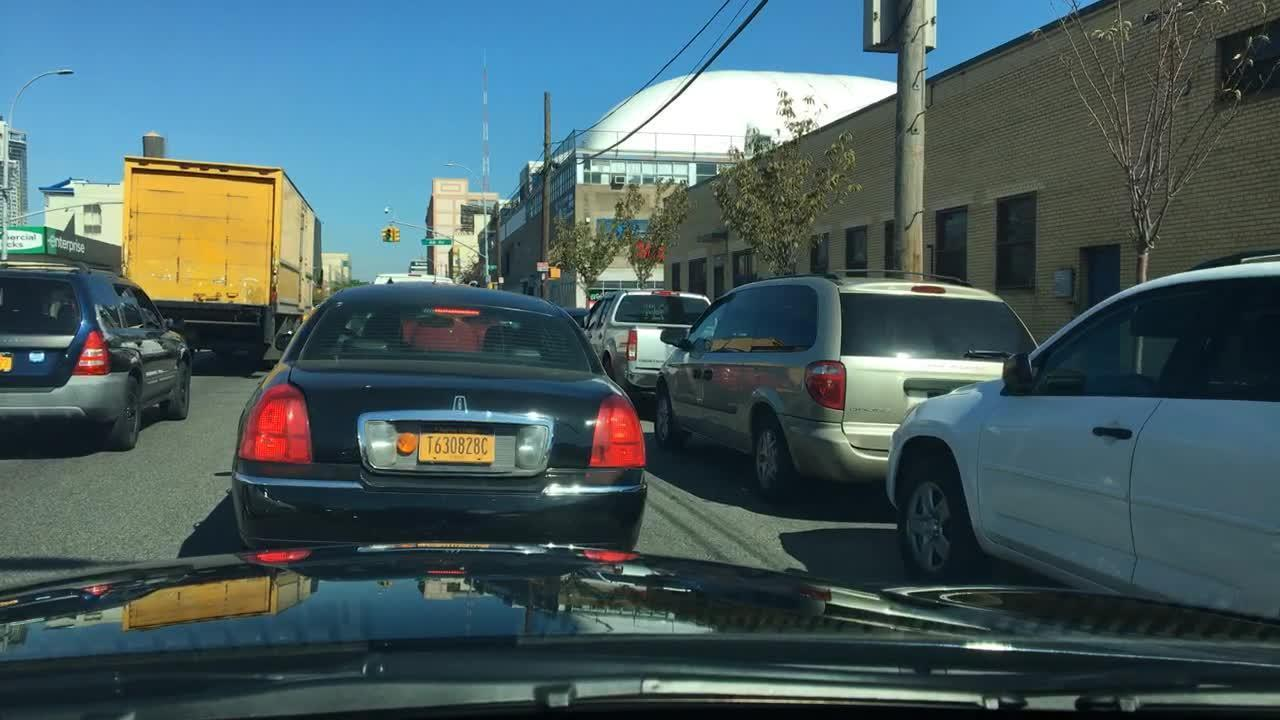lincoln: (451, 394, 473, 420)
